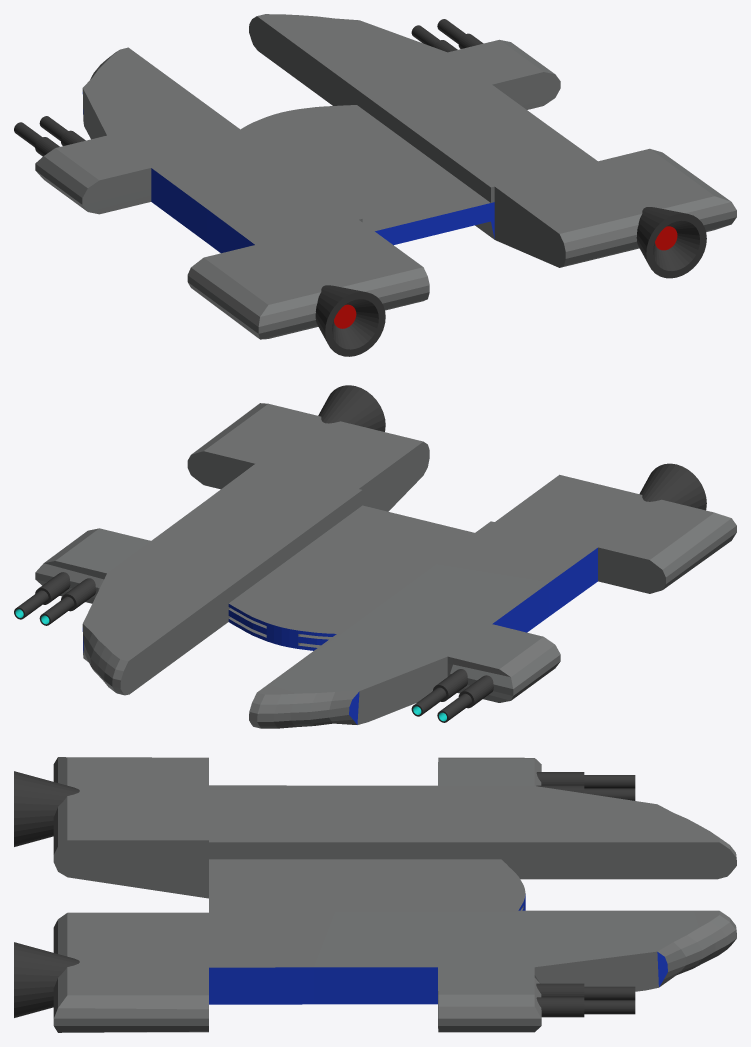
The model's file is zvezdolet.fbx.
3 views of the same model, one above another, from view 1: azimuth 30°, elevation 25°; view 2: azimuth 150°, elevation 25°; view 3: azimuth 270°, elevation 25° (orthographic). The views are drawn at different scales.
Parts seen in each view (by area): view 1: Cube; view 2: Cube; view 3: Cube.
Part boxes in pixels (x1,y1,x2,y2): Cube: [14, 14, 736, 356]; Cube: [14, 385, 736, 728]; Cube: [14, 757, 736, 1032].
Size of the model in its own units: 1482 by 206 by 1778.
